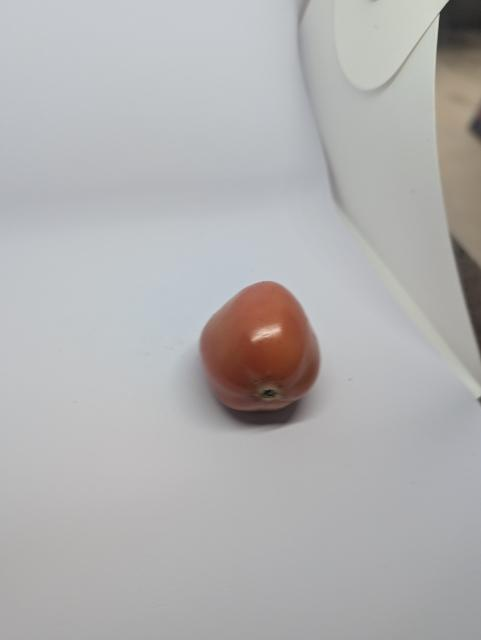red: (192, 275, 334, 436)
